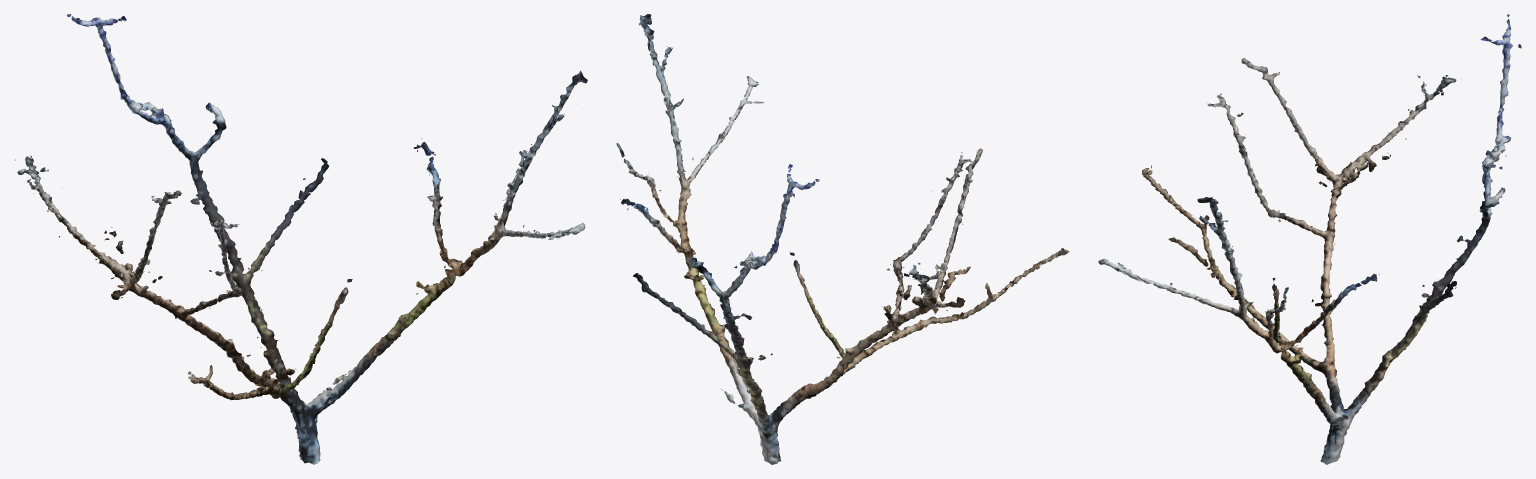
The model's file is demo.obj.
The picture shows the model from 3 angles, left to right: view 1: azimuth 30°, elevation 25°; view 2: azimuth 150°, elevation 25°; view 3: azimuth 270°, elevation 25°; orthographic projection. The views are drawn at different scales.
Bounding box in the file's own units: 3.66 × 3.26 × 3.29.
